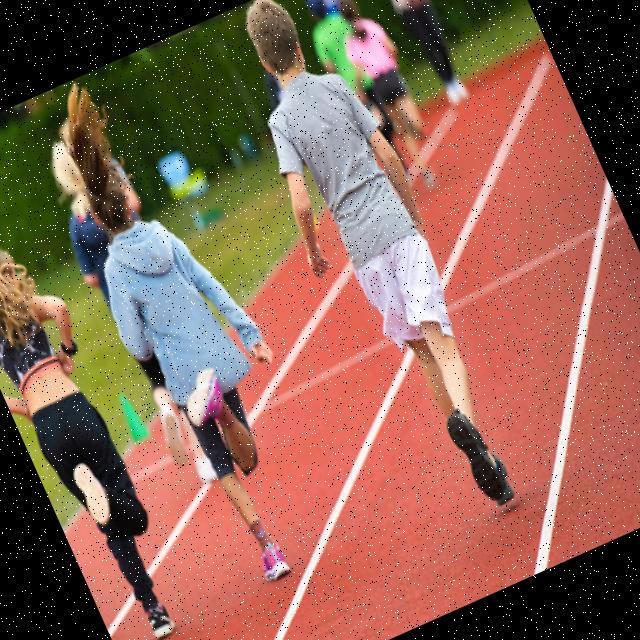Person: (18, 53, 358, 597), (201, 0, 544, 536), (0, 223, 205, 640)
